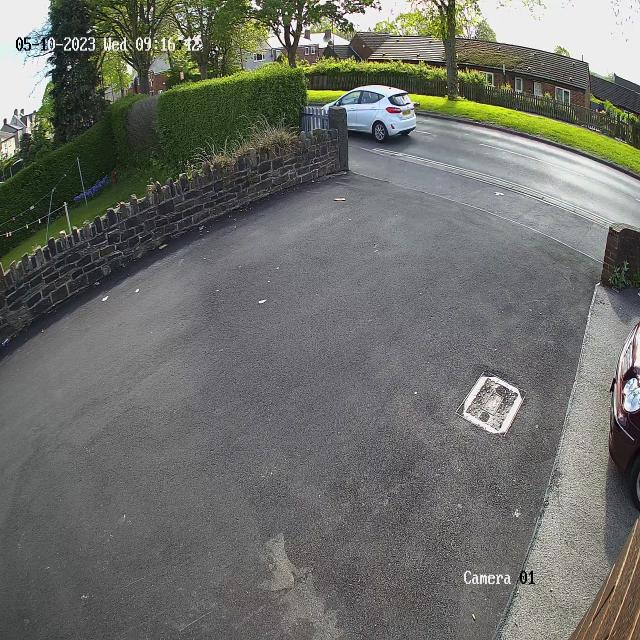vehicle: (317, 79, 422, 147)
